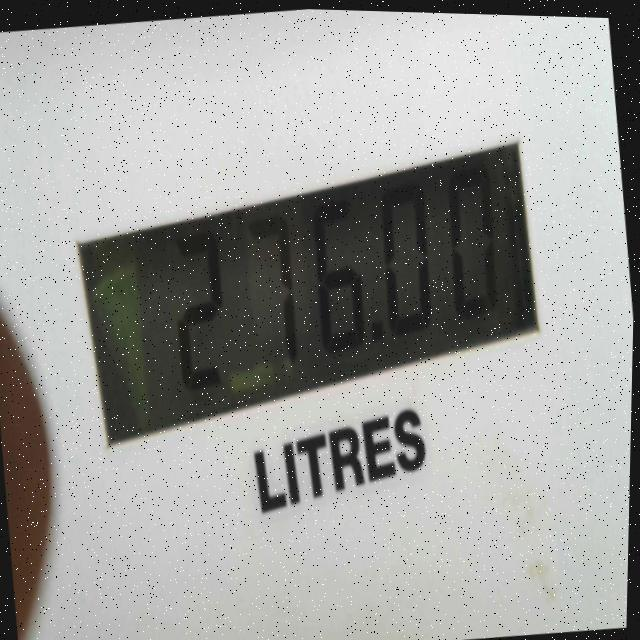.: (373, 324, 386, 346)
0: (373, 177, 443, 339), (442, 168, 502, 320)
2: (164, 239, 230, 381)
6: (308, 192, 369, 352)
7: (242, 213, 307, 368)
